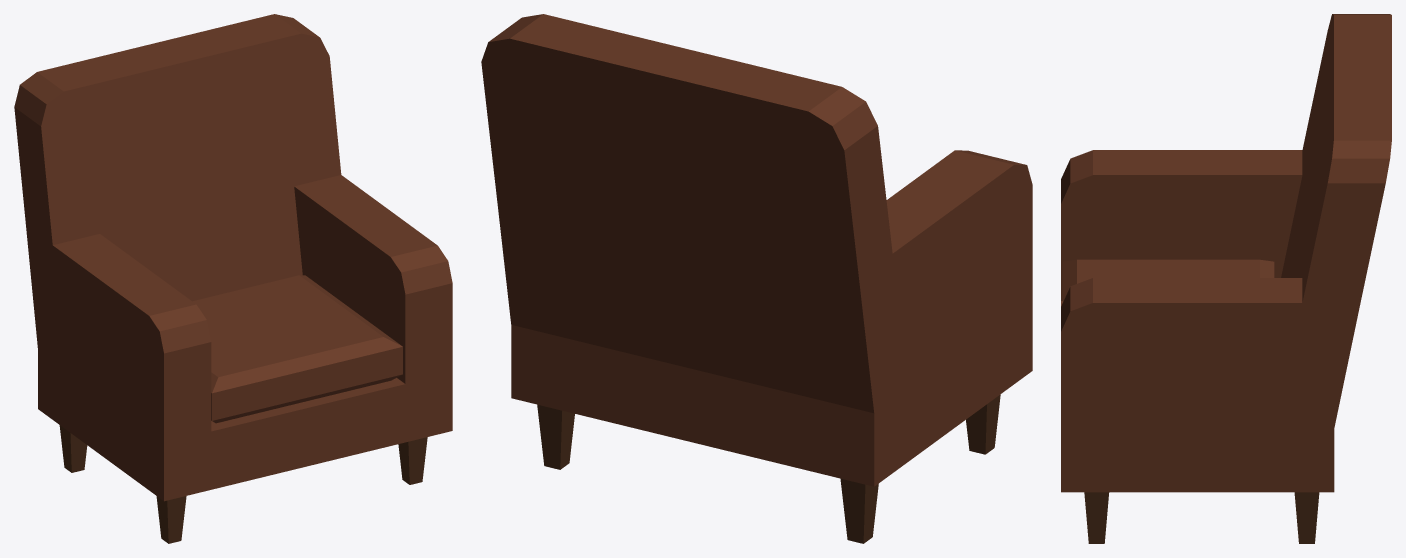
The model's file is Armchair.obj.
3 views of the same model, side by side, from view 1: azimuth 30°, elevation 25°; view 2: azimuth 150°, elevation 25°; view 3: azimuth 270°, elevation 25° (orthographic). The views are drawn at different scales.
Visible parts, largest first — view 1: Armchair; view 2: Armchair; view 3: Armchair.
Boxes of the visible parts, x1,y1,x2,y2 form: Armchair: (14,14,452,543); Armchair: (481,14,1032,543); Armchair: (1061,14,1391,543).
Size of the model in its own units: 0.5881 by 0.7162 by 0.5384.
